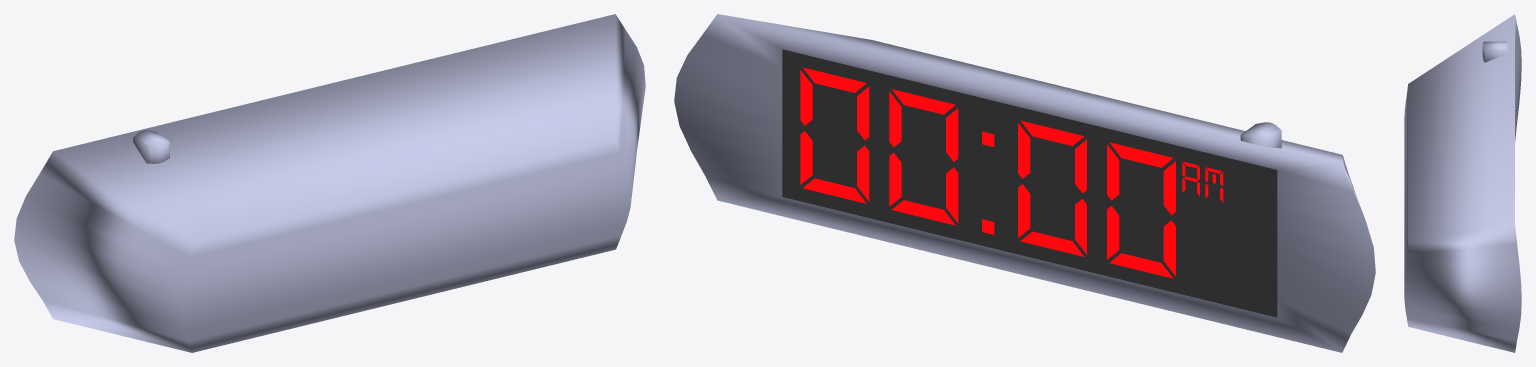
Rendered from DigiClock.fbx.
The picture shows the model from 3 angles, left to right: view 1: azimuth 30°, elevation 25°; view 2: azimuth 150°, elevation 25°; view 3: azimuth 270°, elevation 25°; orthographic projection. The views are drawn at different scales.
Parts seen in each view (by area): view 1: Corpo1; view 2: Corpo1; view 3: Corpo1.
Boxes of the visible parts, x1,y1,x2,y2 form: Corpo1: (14,14,645,352); Corpo1: (674,14,1375,352); Corpo1: (1404,14,1521,352).
Size of the model in its own units: 724 by 187 by 152.
